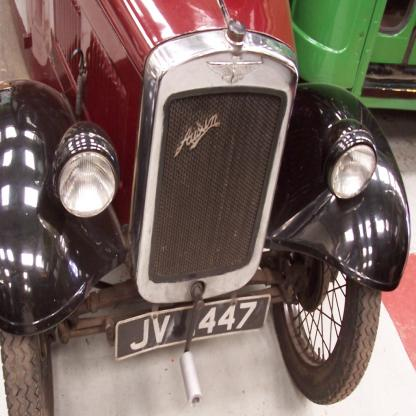Car: (1, 1, 414, 416)
